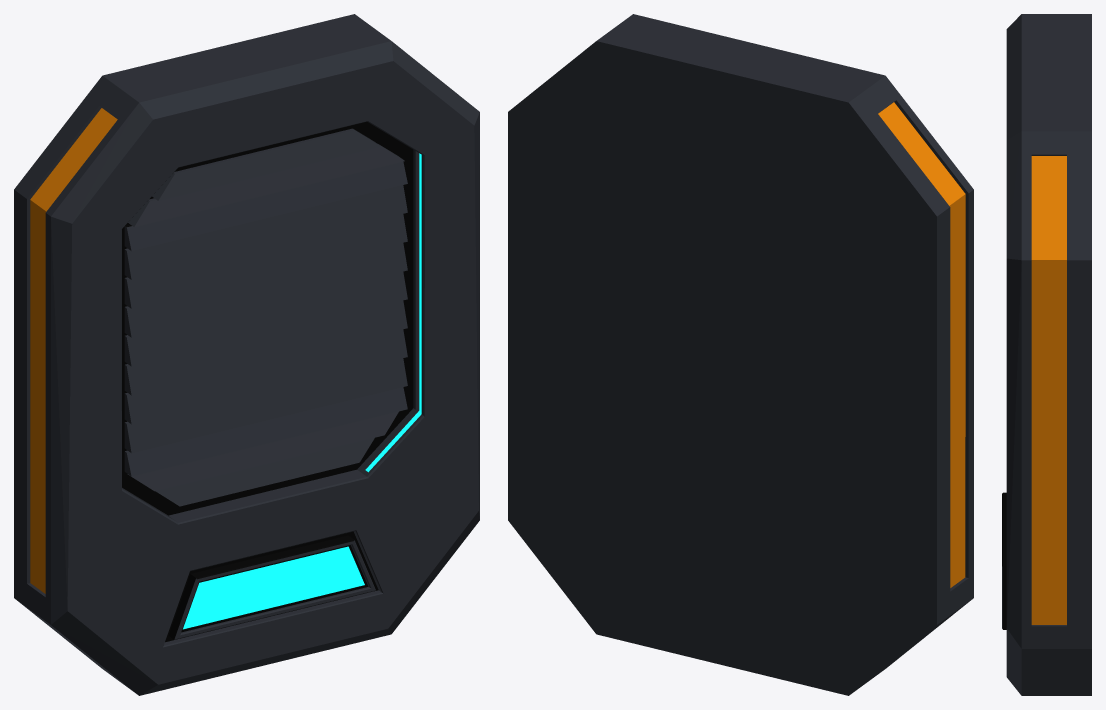
The model's file is SM_Intercom_Unit.fbx.
The picture shows the model from 3 angles, left to right: view 1: azimuth 30°, elevation 25°; view 2: azimuth 150°, elevation 25°; view 3: azimuth 270°, elevation 25°; orthographic projection. The views are drawn at different scales.
Parts seen in each view (by area): view 1: SM_Intercom_Unit; view 2: SM_Intercom_Unit; view 3: SM_Intercom_Unit.
Part boxes in pixels (x1,y1,x2,y2): SM_Intercom_Unit: (14, 14, 479, 695); SM_Intercom_Unit: (508, 14, 973, 695); SM_Intercom_Unit: (1002, 14, 1091, 695).
Size of the model in its own units: 19.84 by 26.22 by 3.78.
